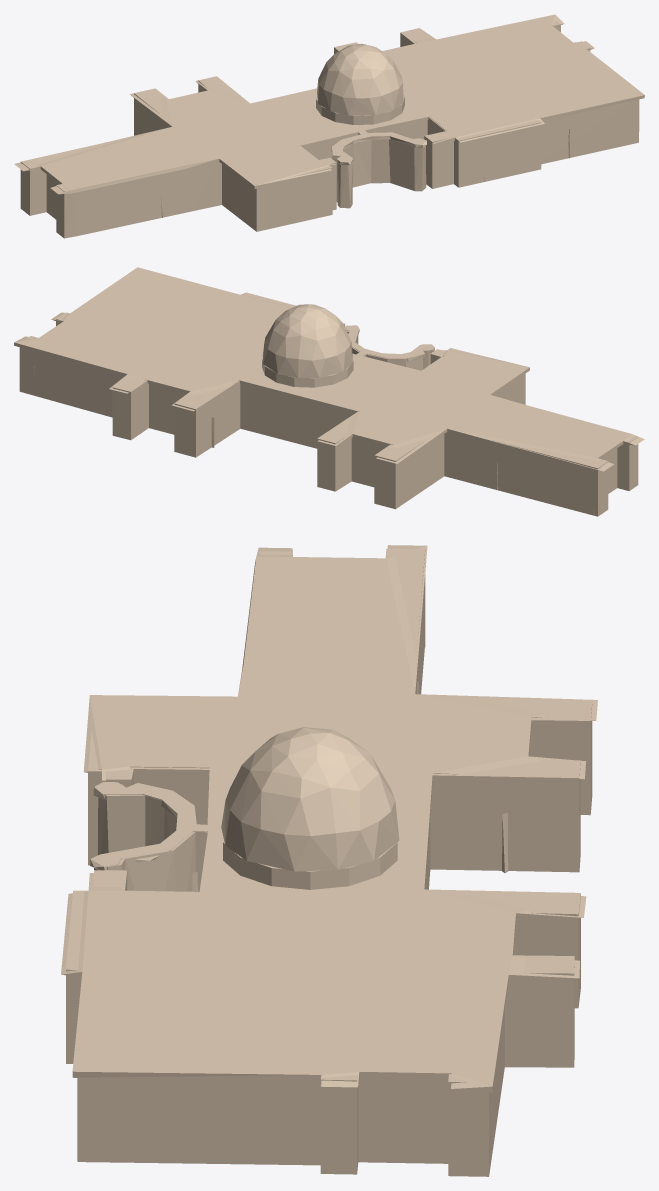
The model's file is south-block_lod1.glb.
The picture shows the model from 3 angles, top to bottom: view 1: azimuth 30°, elevation 25°; view 2: azimuth 150°, elevation 25°; view 3: azimuth 270°, elevation 25°; orthographic projection. The views are drawn at different scales.
Visible parts, largest first — view 1: south-block; view 2: south-block; view 3: south-block.
Boxes of the visible parts, box(x1,y1,x2,y2) form: south-block: box(14, 14, 644, 238); south-block: box(14, 267, 644, 516); south-block: box(61, 545, 597, 1176).
Bounding box in the file's own units: 372 × 67.92 × 155.
